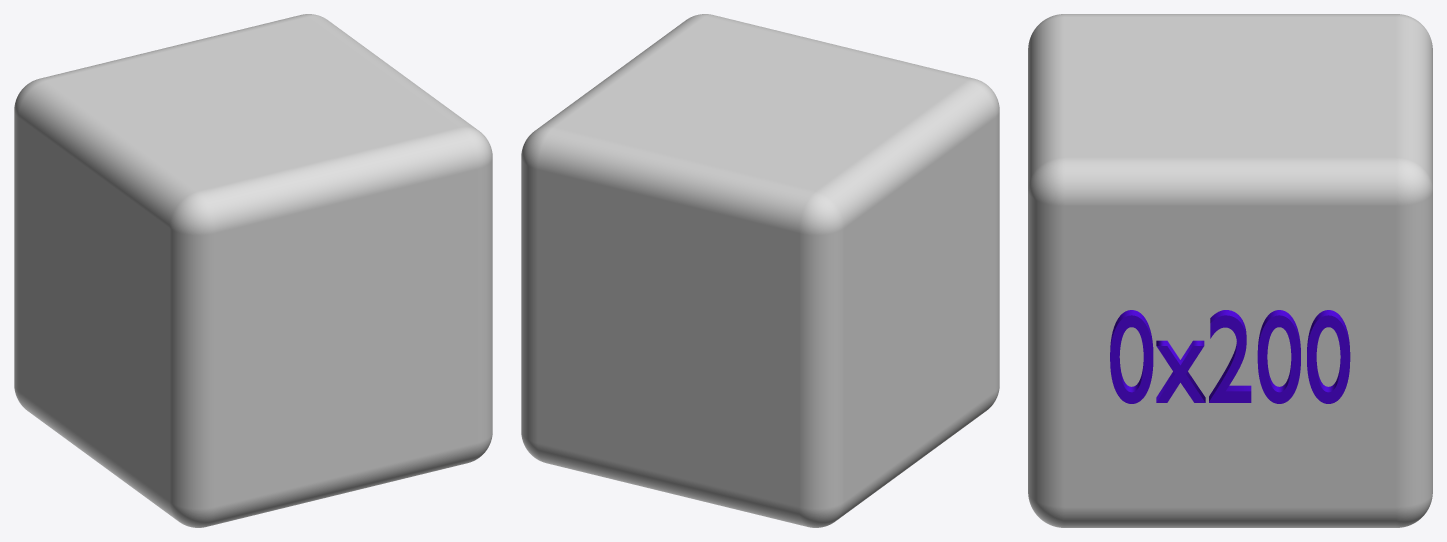
Rendered from Instr22.fbx.
3 views of the same model, side by side, from view 1: azimuth 30°, elevation 25°; view 2: azimuth 150°, elevation 25°; view 3: azimuth 270°, elevation 25° (orthographic). The views are drawn at different scales.
Visible parts, largest first — view 1: Cube; view 2: Cube; view 3: Cube, Text.
Part boxes in pixels (box(x1,y1,x2,y2)): Cube: box(14, 14, 492, 527); Cube: box(521, 14, 999, 527); Cube: box(1028, 14, 1432, 527); Text: box(1110, 310, 1350, 403).
Bounding box in the file's own units: 69.29 × 67.15 × 67.15.
